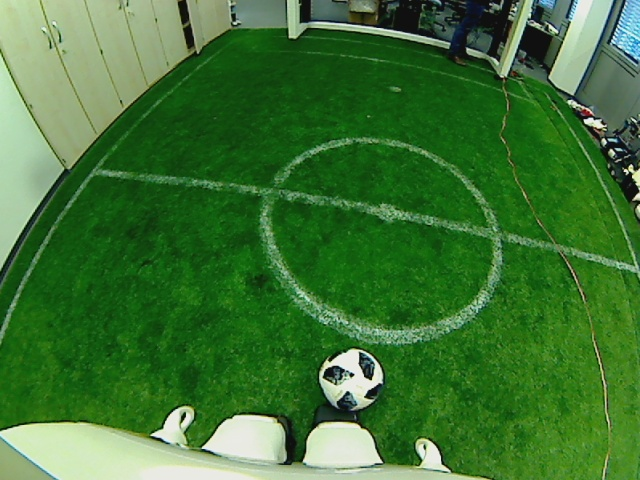ball: (319, 347, 384, 411)
